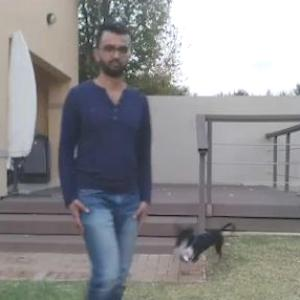follow: (71, 35, 172, 299)
